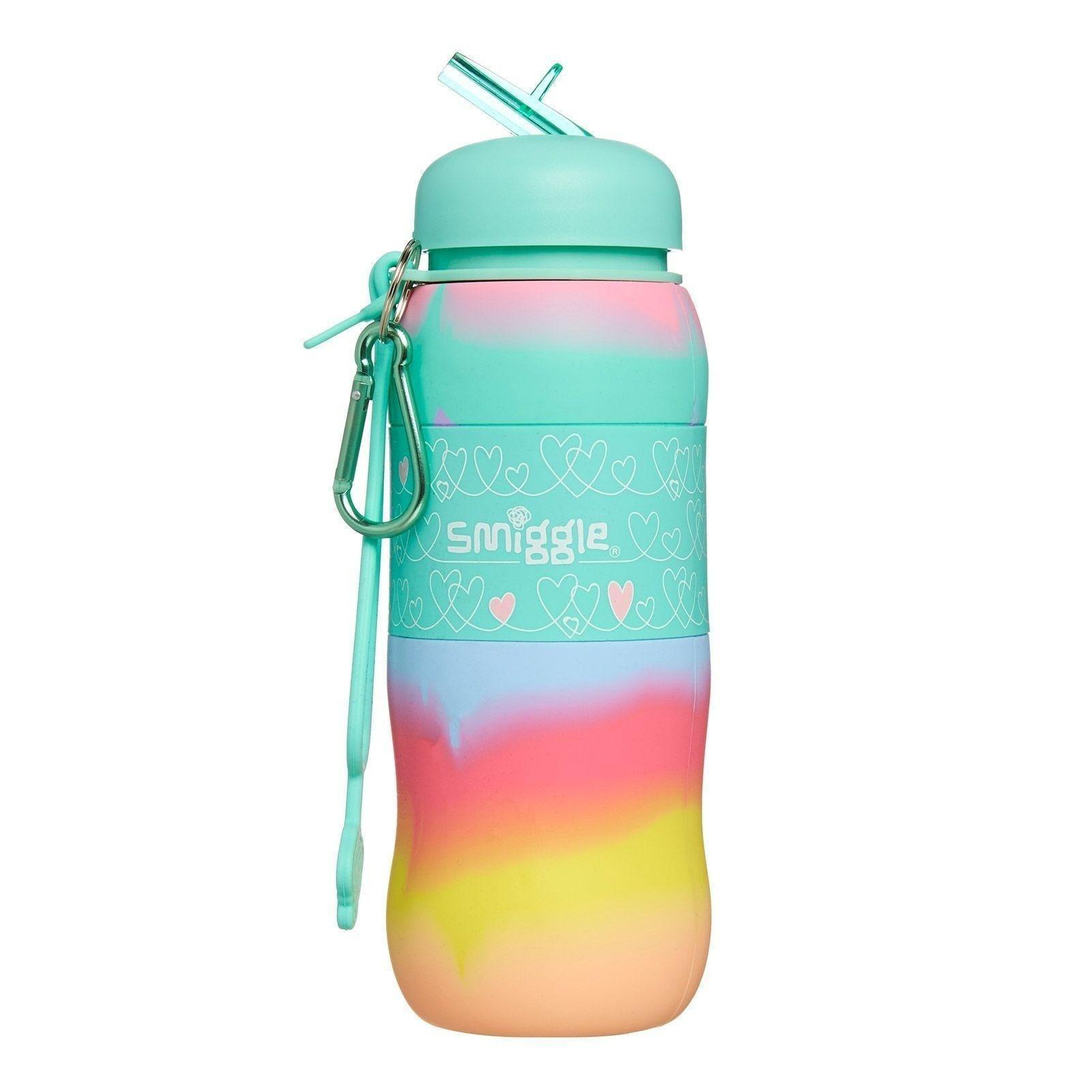gym bottle: (331, 48, 723, 1042)
